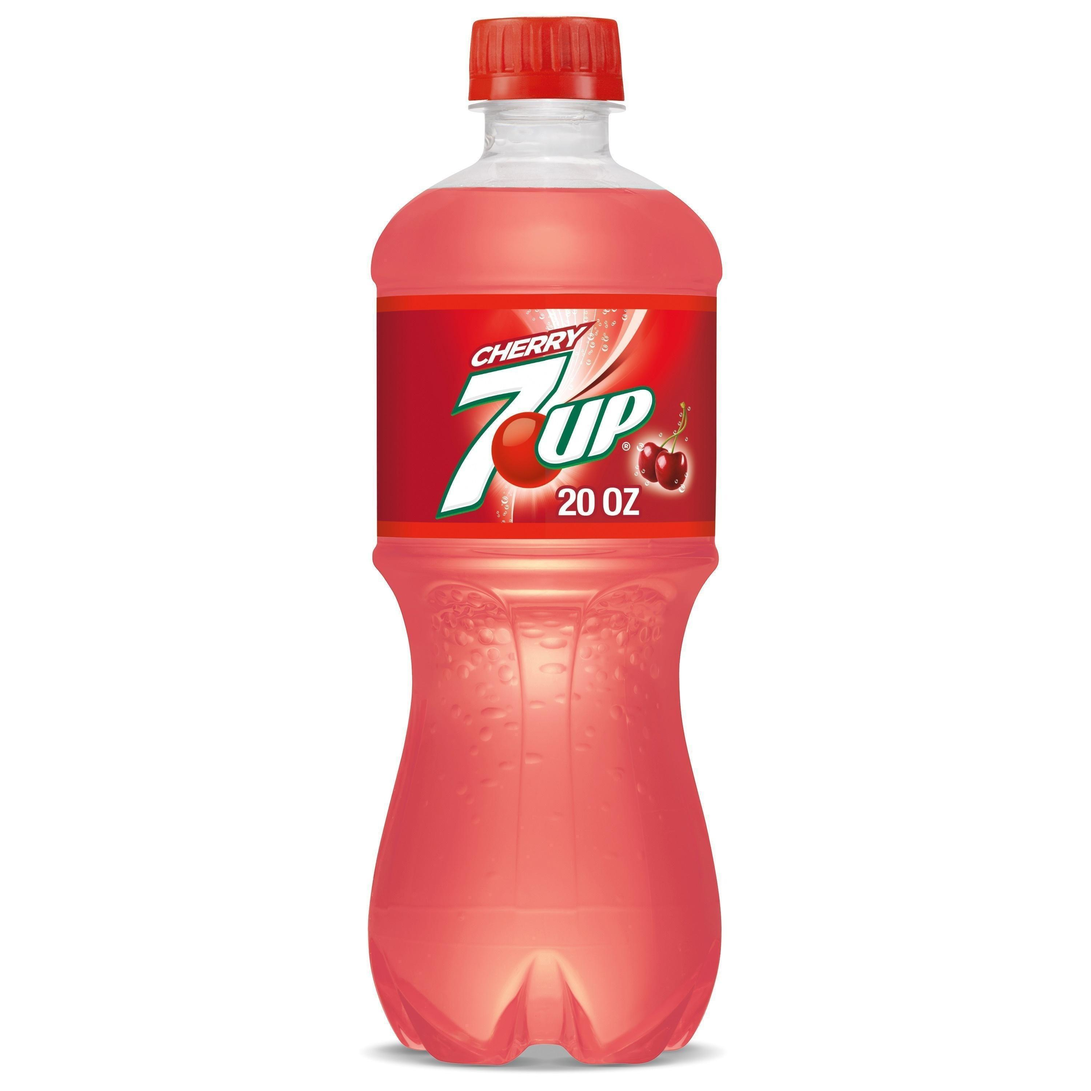bottle-plastic: (361, 0, 727, 1073)
